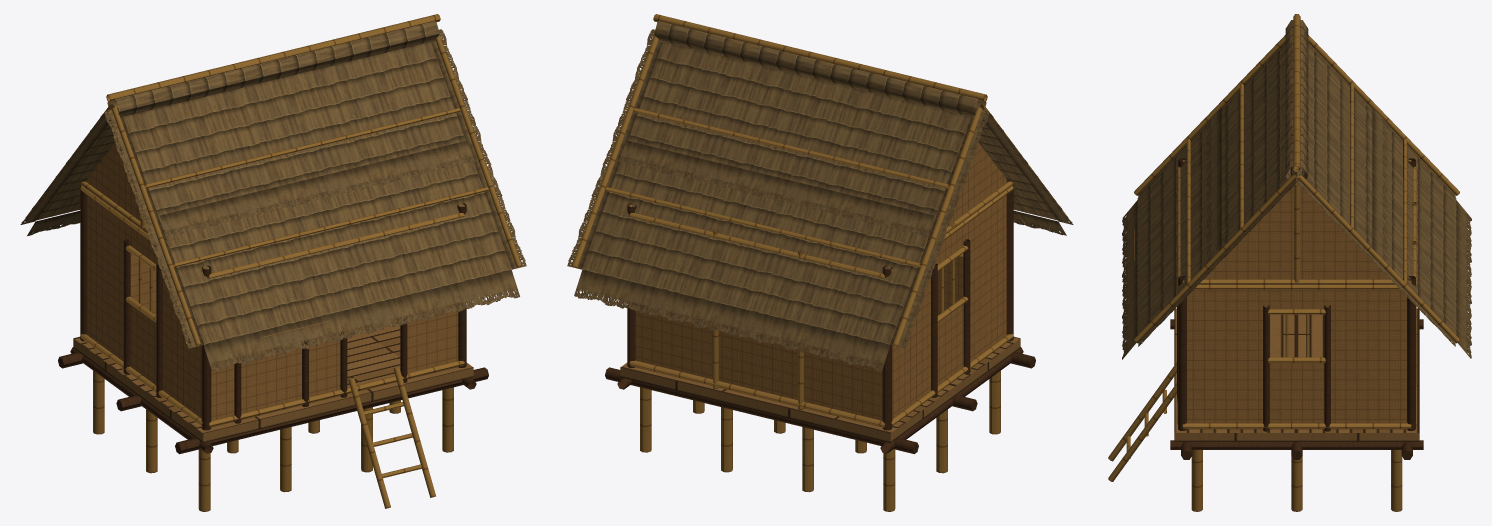
The picture shows the model from 3 angles, left to right: view 1: azimuth 30°, elevation 25°; view 2: azimuth 150°, elevation 25°; view 3: azimuth 270°, elevation 25°; orthographic projection. The views are drawn at different scales.
Parts seen in each view (by area): view 1: hut_bahay-kubo_0; view 2: hut_bahay-kubo_0; view 3: hut_bahay-kubo_0.
Part boxes in pixels (box(x1,y1,x2,y2)): hut_bahay-kubo_0: box(20, 14, 526, 511); hut_bahay-kubo_0: box(567, 14, 1073, 511); hut_bahay-kubo_0: box(1108, 14, 1471, 511).
Size of the model in its own units: 4.66 by 4.91 by 4.52.
6 materials, 6 textured.
